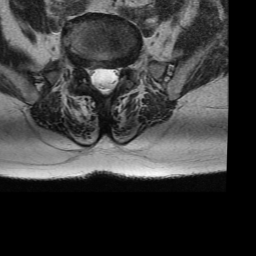CCS_normal: (99, 60, 108, 101)
LFS_severe_stenosis: (118, 56, 127, 77)
LLS_normal: (108, 60, 119, 96)
RFS_severe_stenosis: (78, 57, 90, 81)
RLS_normal: (90, 57, 99, 95)
